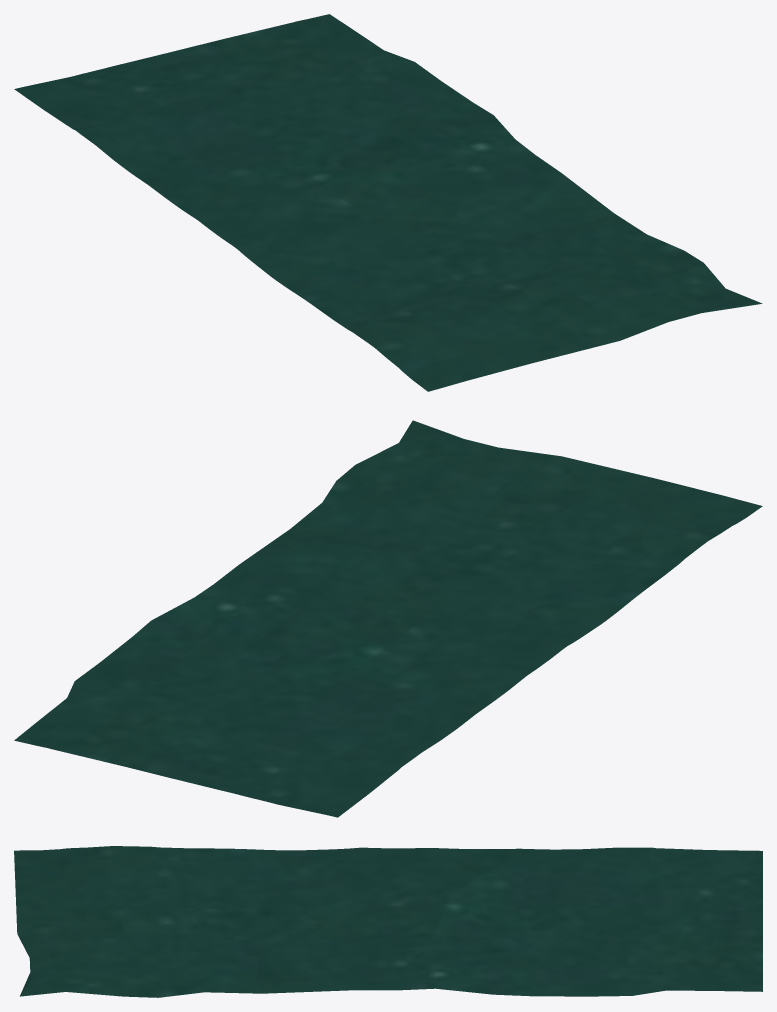
The picture shows the model from 3 angles, top to bottom: view 1: azimuth 30°, elevation 25°; view 2: azimuth 150°, elevation 25°; view 3: azimuth 270°, elevation 25°; orthographic projection. The views are drawn at different scales.
Bounding box in the file's own units: 30.54 × 0.6666 × 64.8.
1 material, 1 textured.
